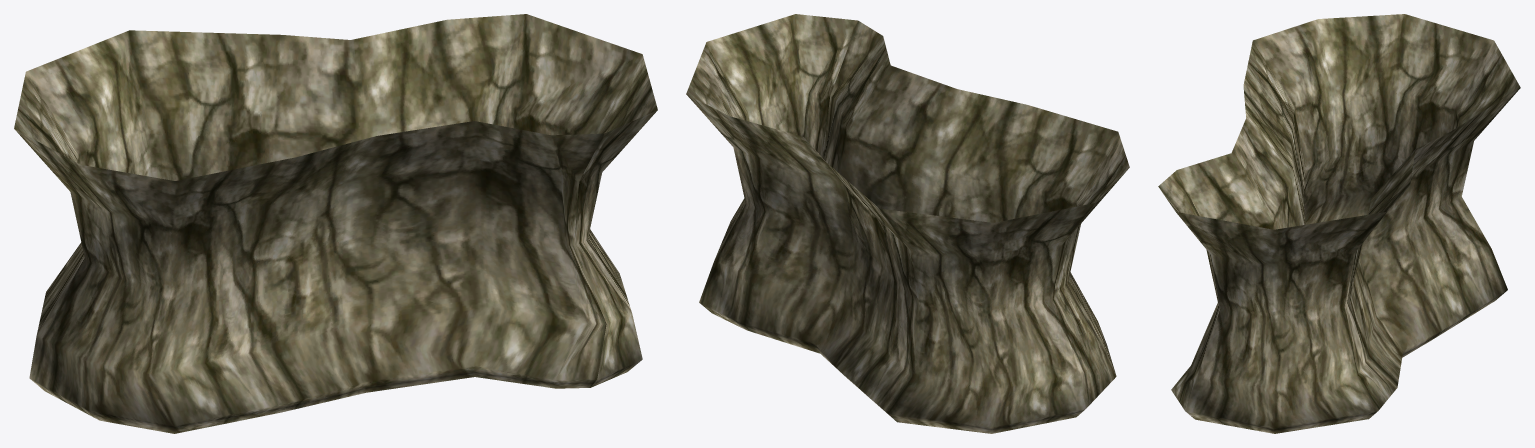
File: CB_NEWPLAYSURFACE_CB_PLAYSURFACE49.fbx
The picture shows the model from 3 angles, left to right: view 1: azimuth 30°, elevation 25°; view 2: azimuth 150°, elevation 25°; view 3: azimuth 270°, elevation 25°; orthographic projection. The views are drawn at different scales.
Visible parts, largest first — view 1: CB_NEWPLAYSURFACE_CB_PLAYSURFACE49; view 2: CB_NEWPLAYSURFACE_CB_PLAYSURFACE49; view 3: CB_NEWPLAYSURFACE_CB_PLAYSURFACE49.
Boxes of the visible parts, bbox=[...] form: CB_NEWPLAYSURFACE_CB_PLAYSURFACE49: bbox=[14, 14, 657, 433]; CB_NEWPLAYSURFACE_CB_PLAYSURFACE49: bbox=[686, 14, 1129, 433]; CB_NEWPLAYSURFACE_CB_PLAYSURFACE49: bbox=[1158, 14, 1520, 433].
Size of the model in its own units: 142763 by 66374 by 101388.
Materials: 2 (2 with a texture image).
